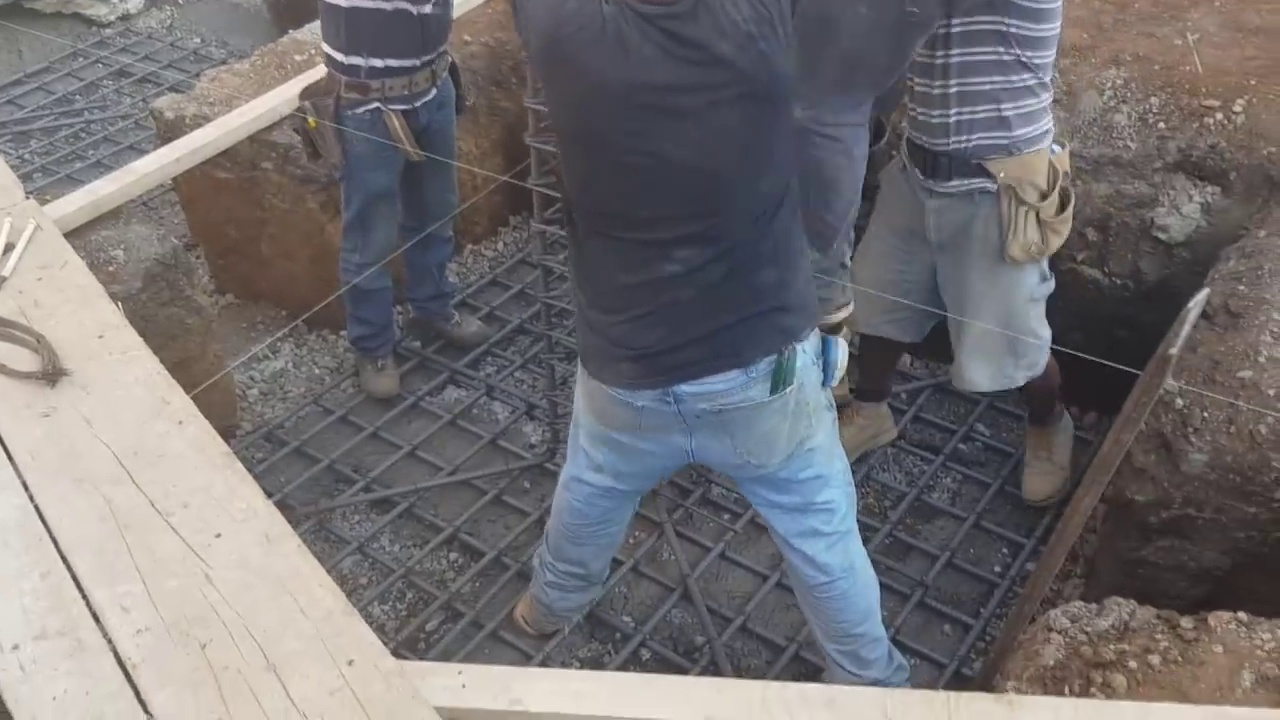person: (506, 3, 907, 689), (835, 0, 1080, 508), (314, 5, 492, 394)
